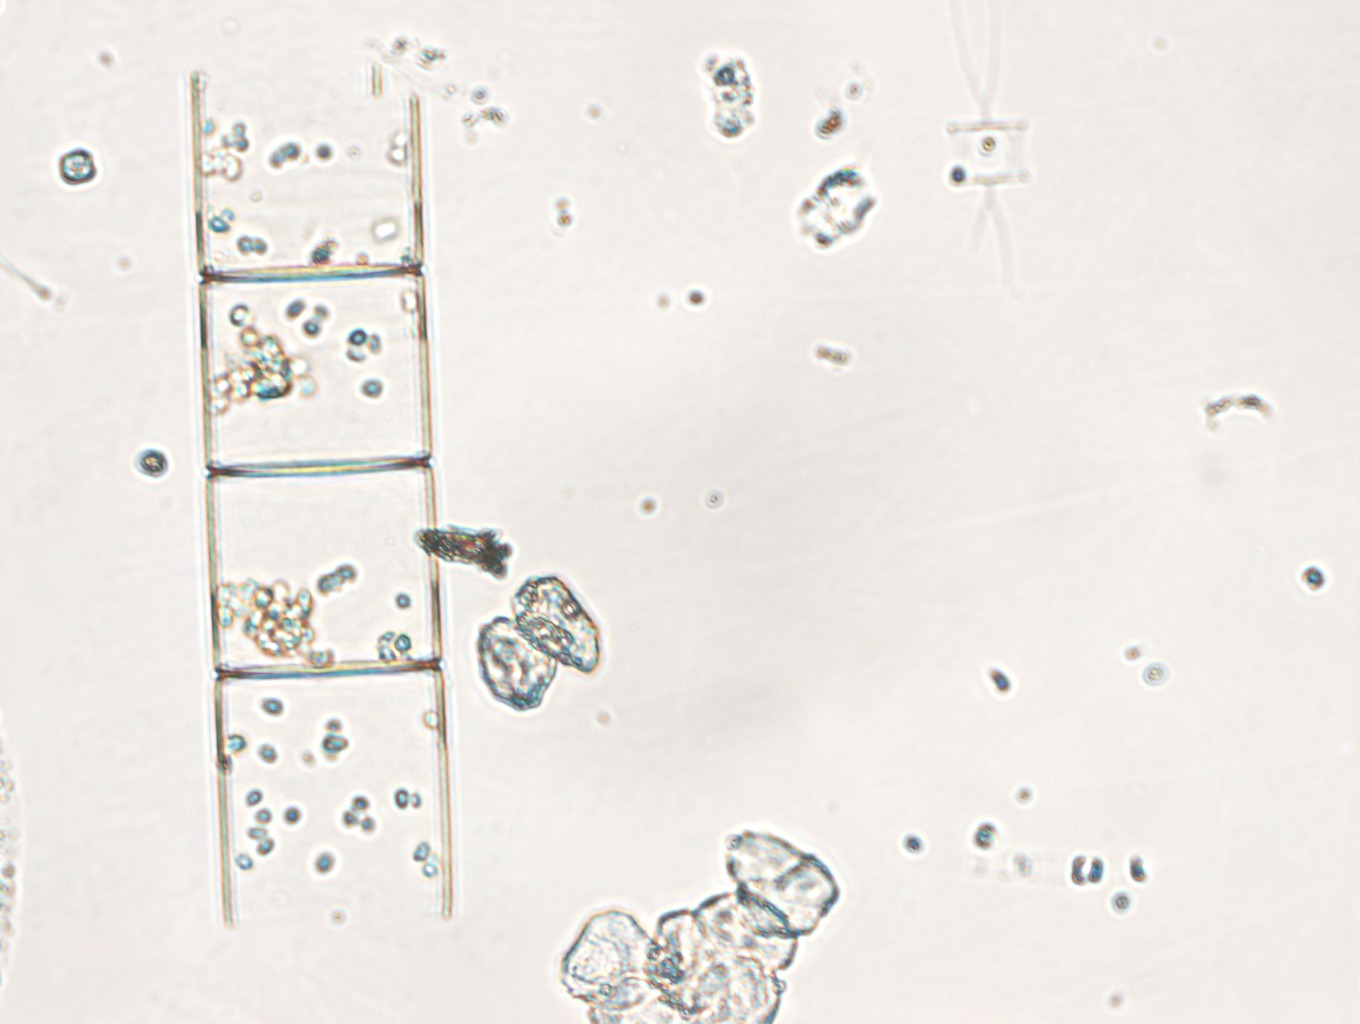chaetoceros: (944, 6, 1029, 274)
guinardia flaccida: (188, 62, 462, 930)
